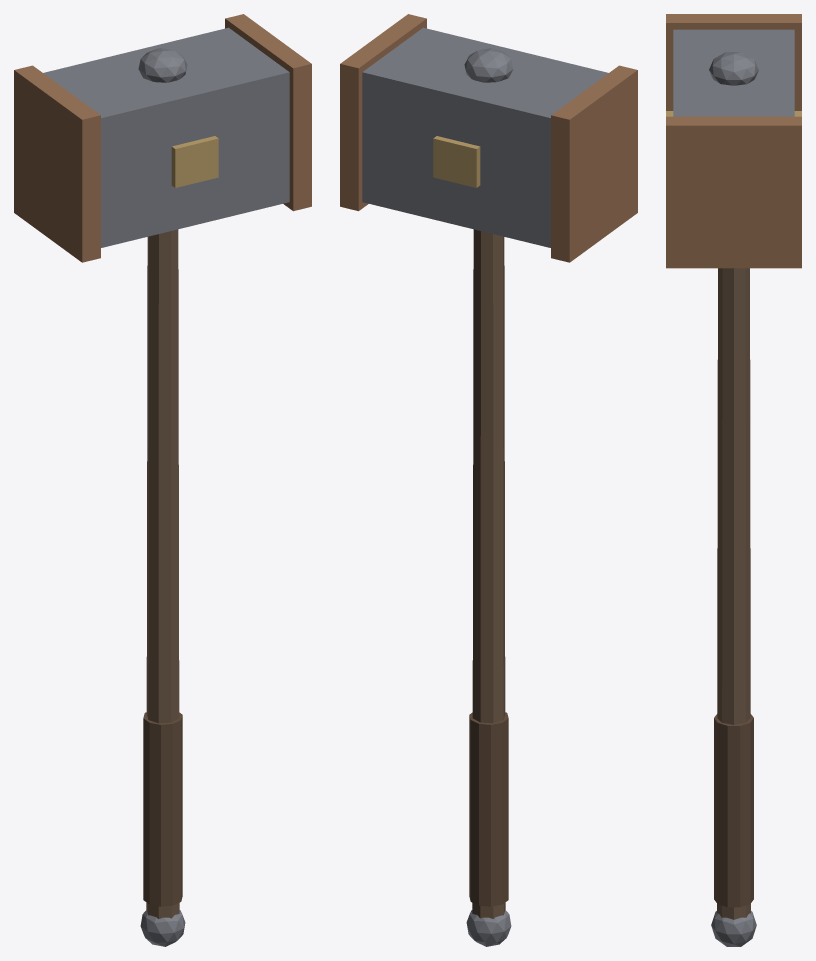
Rendered from war_maul.glb.
3 views of the same model, side by side, from view 1: azimuth 30°, elevation 25°; view 2: azimuth 150°, elevation 25°; view 3: azimuth 270°, elevation 25° (orthographic).
Parts seen in each view (by area): view 1: war_maul; view 2: war_maul; view 3: war_maul.
Boxes of the visible parts, x1,y1,x2,y2 form: war_maul: (14,14,311,946); war_maul: (340,14,637,946); war_maul: (666,14,801,946).
Bounding box in the file's own units: 0.37 × 1.38 × 0.19.
